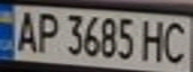3: (60, 10, 84, 56)
5: (115, 15, 142, 61)
6: (81, 12, 103, 59)
8: (96, 15, 121, 61)
A: (9, 8, 42, 53)
C: (160, 18, 193, 65)
H: (139, 16, 169, 63)
P: (33, 8, 60, 54)
